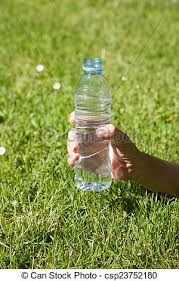plastic_bottle: (74, 57, 114, 192)
